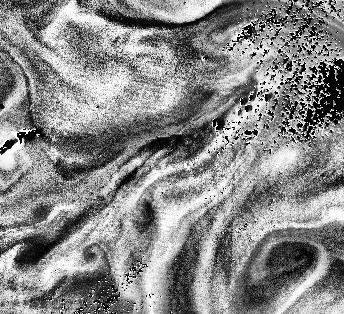CE: (248, 233, 327, 288), (80, 242, 109, 269)
